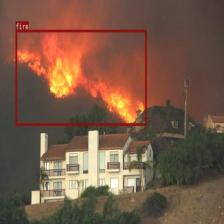fire: (15, 30, 146, 125)
